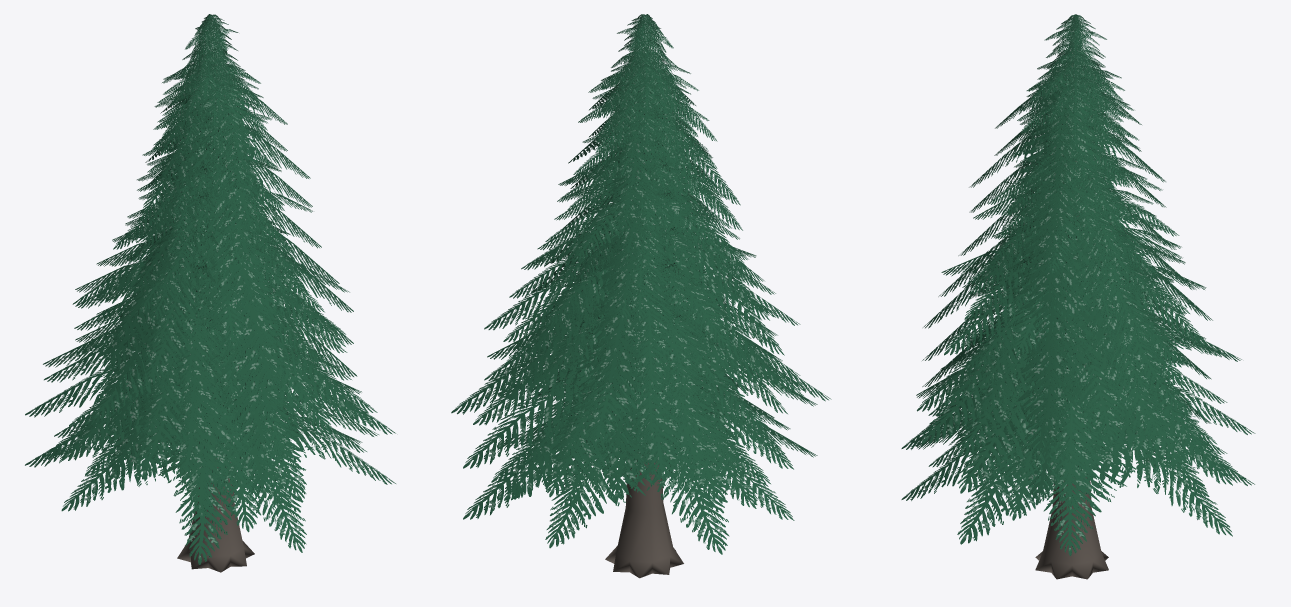
Rendered from pine_tree.fbx.
3 renders of one model, left to right at view 1: azimuth 30°, elevation 25°; view 2: azimuth 150°, elevation 25°; view 3: azimuth 270°, elevation 25°, orthographic.
Parts seen in each view (by area): view 1: Pine_Tree13; view 2: Pine_Tree13; view 3: Pine_Tree13.
Boxes of the visible parts, x1,y1,x2,y2 form: Pine_Tree13: (25, 14, 395, 572); Pine_Tree13: (451, 14, 831, 578); Pine_Tree13: (901, 14, 1255, 579).
Size of the model in its own units: 24.85 by 37.75 by 25.18.
